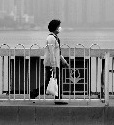person: (30, 18, 72, 106)
